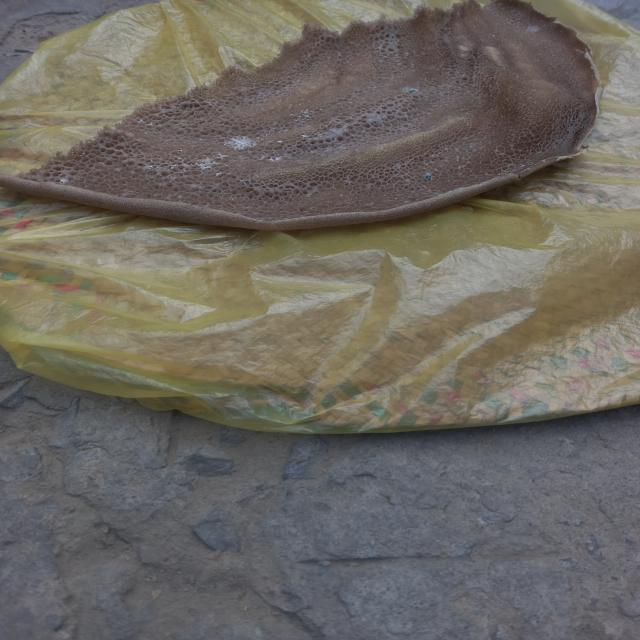injera_mold: (220, 130, 258, 152), (141, 158, 190, 175), (193, 152, 225, 173), (290, 106, 315, 124), (264, 150, 286, 163), (520, 22, 540, 36), (54, 175, 75, 186), (401, 85, 418, 96), (422, 170, 439, 181)
